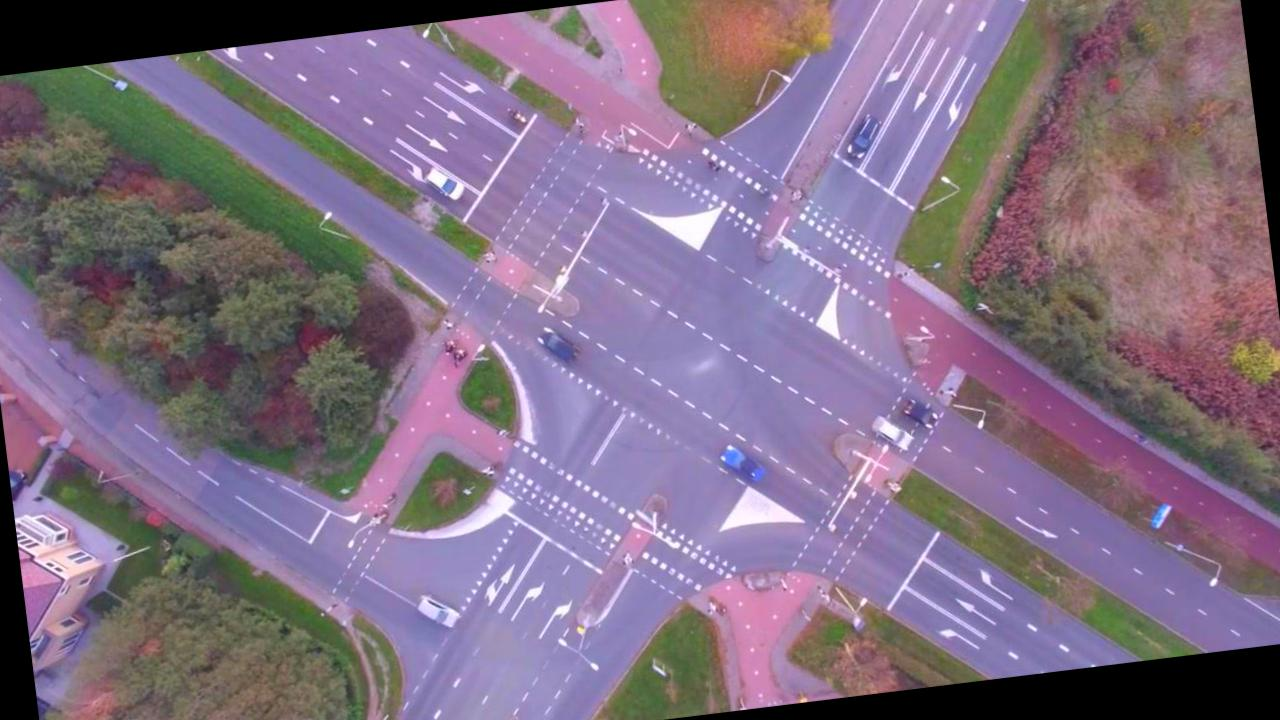vehicle: (720, 438, 769, 487), (842, 112, 888, 162), (534, 322, 584, 366), (415, 589, 463, 633), (871, 410, 917, 455), (424, 162, 468, 204), (901, 394, 942, 432)
